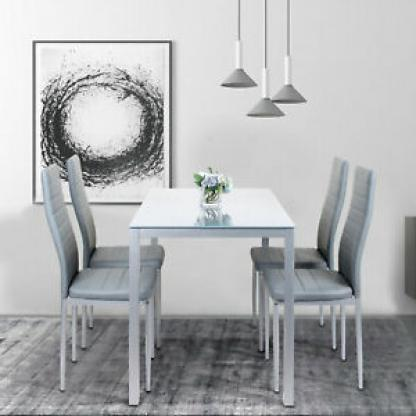chair: (38, 161, 159, 402), (261, 164, 381, 399), (64, 145, 166, 270), (244, 154, 349, 272)
